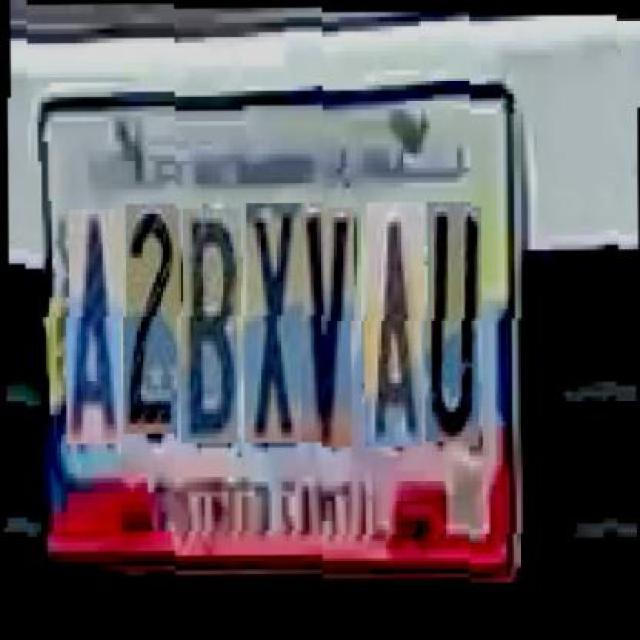2: (121, 203, 177, 434)
a: (363, 193, 422, 438), (65, 209, 120, 445)
b: (179, 204, 236, 439)
u: (423, 192, 479, 432)
v: (299, 198, 352, 438)
x: (242, 198, 301, 438)
